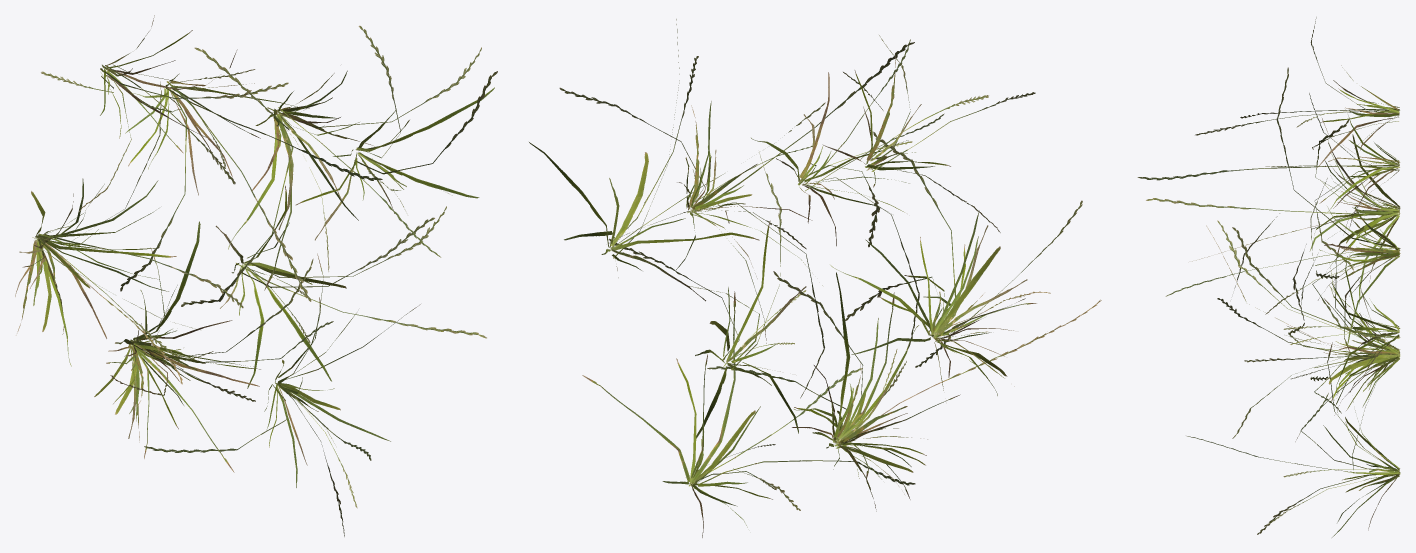
The model's file is Tall_Grass_03_Var3_LOD1.fbx.
3 views of the same model, side by side, from view 1: azimuth 30°, elevation 25°; view 2: azimuth 150°, elevation 25°; view 3: azimuth 270°, elevation 25° (orthographic). The views are drawn at different scales.
Parts seen in each view (by area): view 1: Var3_LOD1; view 2: Var3_LOD1; view 3: Var3_LOD1.
Part boxes in pixels (x1=…): Var3_LOD1: x1=15, y1=15, x2=497, y2=536; Var3_LOD1: x1=529, y1=19, x2=1101, y2=537; Var3_LOD1: x1=1137, y1=17, x2=1400, y2=537.
Size of the model in its own units: 98.65 by 101 by 57.02.
